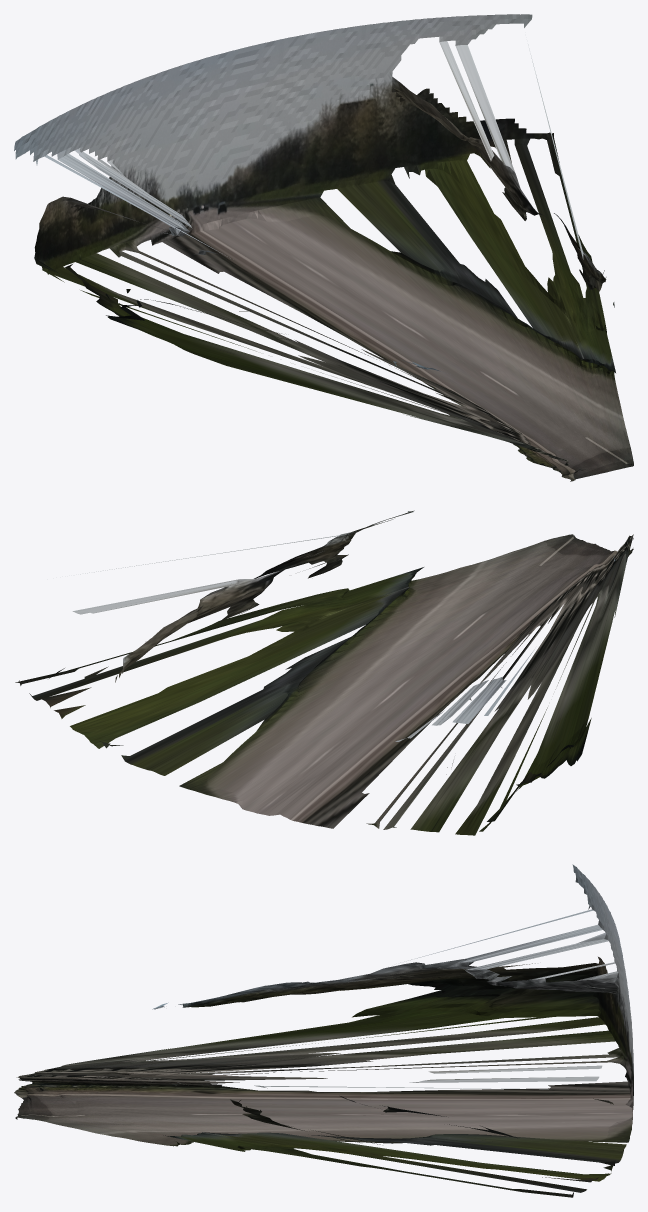
3 views of the same model, one above another, from view 1: azimuth 30°, elevation 25°; view 2: azimuth 150°, elevation 25°; view 3: azimuth 270°, elevation 25° (orthographic). The views are drawn at different scales.
Parts seen in each view (by area): view 1: defaultobject; view 2: defaultobject; view 3: defaultobject.
Boxes of the visible parts, x1,y1,x2,y2 form: defaultobject: (14,14,633,481); defaultobject: (15,510,633,835); defaultobject: (14,864,633,1197).
Size of the model in its own units: 38.42 by 12.1 by 44.82.
Materials: 1 (1 with a texture image).
